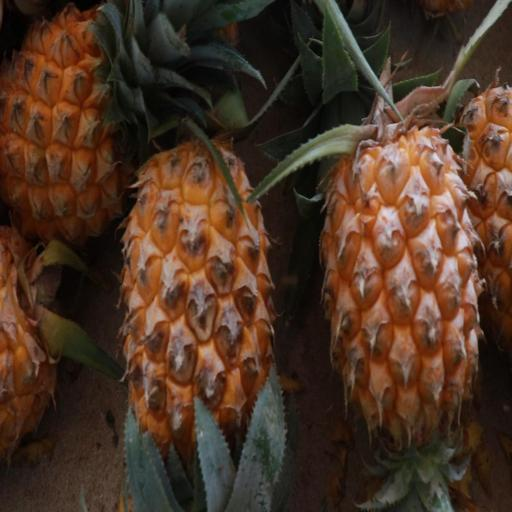Pineapple - v8 v1: (113, 121, 282, 511), (317, 110, 484, 480), (0, 2, 172, 255)
